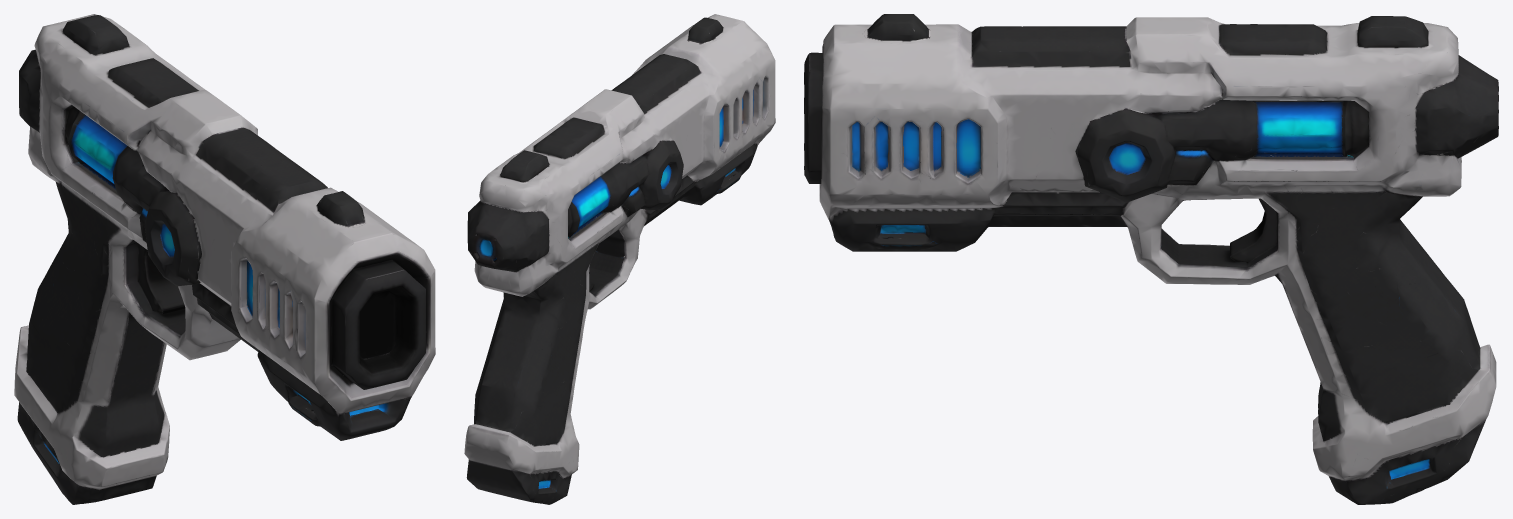
Rendered from sci_fi_blaster_pistol.glb.
3 views of the same model, side by side, from view 1: azimuth 30°, elevation 25°; view 2: azimuth 150°, elevation 25°; view 3: azimuth 270°, elevation 25° (orthographic). The views are drawn at different scales.
Parts seen in each view (by area): view 1: world; view 2: world; view 3: world.
Part boxes in pixels (box(x1,y1,x2,y2)): world: box(14, 14, 435, 504); world: box(464, 14, 775, 504); world: box(804, 14, 1498, 504).
Bounding box in the file's own units: 0.2198 × 0.7472 × 1.
Materials: 1 (1 with a texture image).
